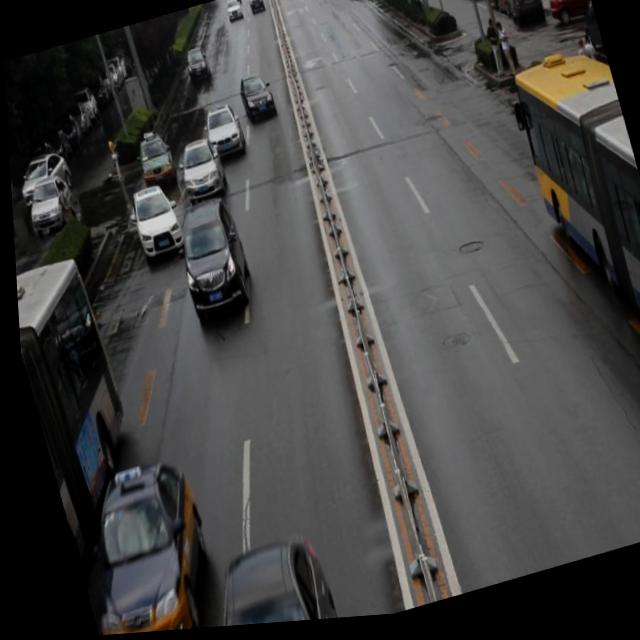car: (63, 459, 222, 638), (188, 537, 329, 631), (164, 196, 254, 328), (122, 180, 183, 266), (171, 133, 227, 214), (129, 126, 178, 198), (196, 106, 244, 165), (234, 75, 274, 127)
van: (12, 251, 163, 604), (500, 58, 640, 426)
